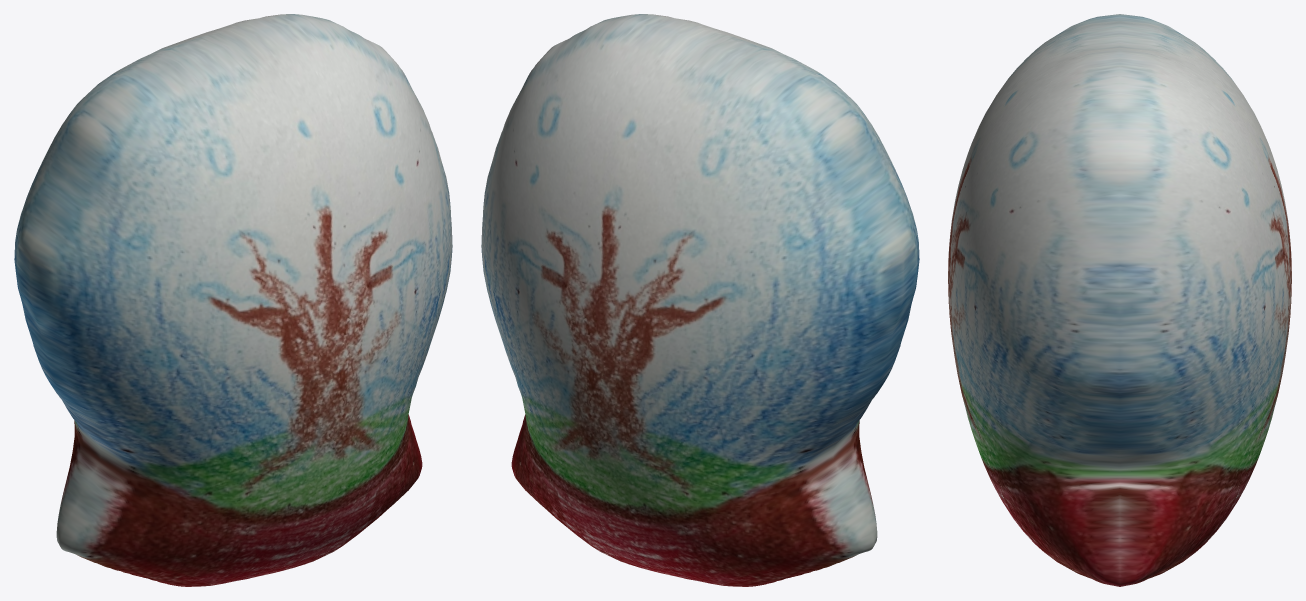
The model's file is 스노우볼.glb.
3 views of the same model, side by side, from view 1: azimuth 30°, elevation 25°; view 2: azimuth 150°, elevation 25°; view 3: azimuth 270°, elevation 25° (orthographic). The views are drawn at different scales.
Size of the model in its own units: 3.5 by 4.38 by 2.67.
Materials: 1 (1 with a texture image).
